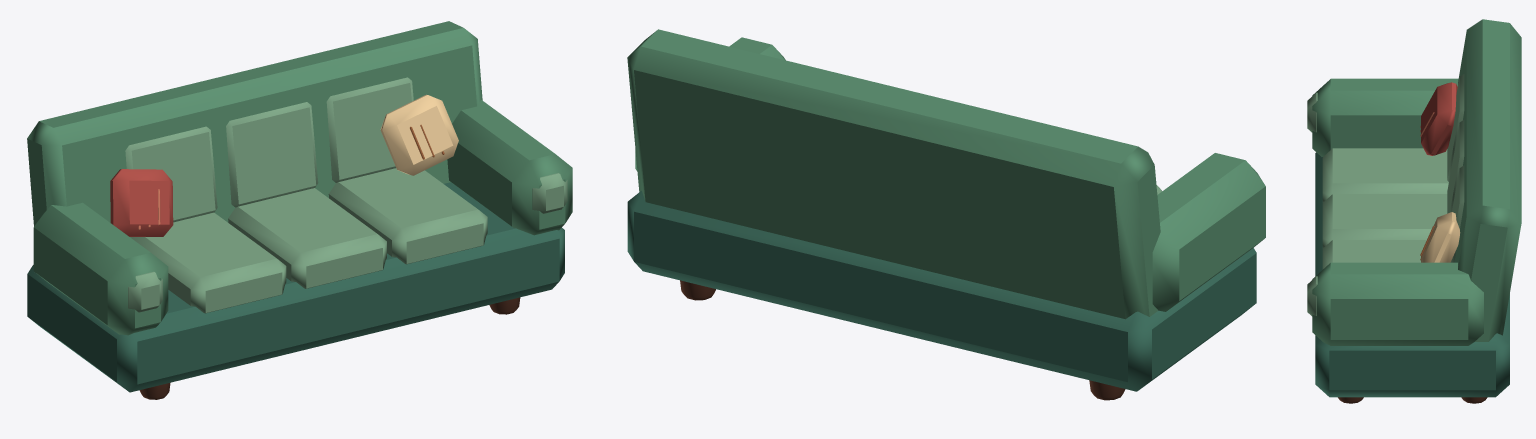
File: sofa.glb
3 renders of one model, left to right at view 1: azimuth 30°, elevation 25°; view 2: azimuth 150°, elevation 25°; view 3: azimuth 270°, elevation 25°, orthographic. The views are drawn at different scales.
Visible parts, largest first — view 1: Sofa; view 2: Sofa; view 3: Sofa.
Boxes of the visible parts, x1,y1,x2,y2 form: Sofa: (27,21,572,399); Sofa: (627,29,1265,400); Sofa: (1307,19,1521,403).
Bounding box in the file's own units: 1.94 × 0.8871 × 0.8313.
